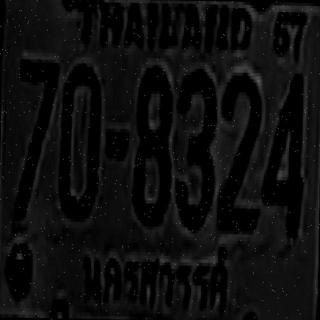N00: (58, 60, 100, 216)
N02: (217, 69, 260, 228)
N03: (173, 66, 214, 226)
N04: (261, 68, 304, 234)
N07: (14, 54, 58, 216)
N08: (131, 62, 170, 222)
P31: (76, 242, 238, 320)
